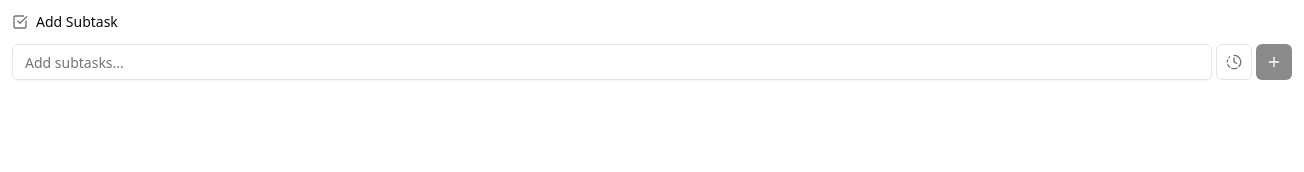
SubtaskContent › Adding Subtasks › submit button is enabled when input has text
The width and height of the screenshot is (1304, 172).
Type "Test subtask" into the field with test id "subtask-input".
click(612, 62); type("Test subtask")  # box [12,44,1212,80]
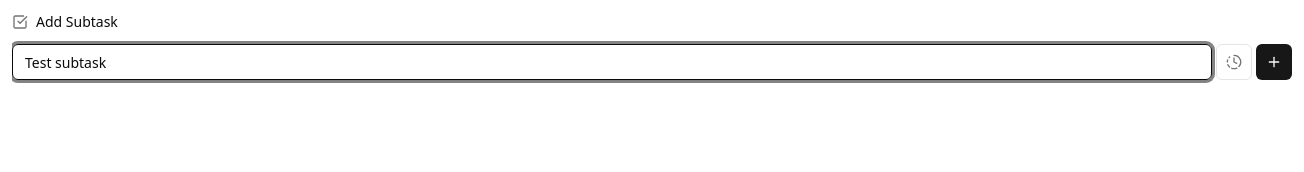
Check: the button with test id "subtask-submit-button" is enabled, box [1256,44,1292,80]
